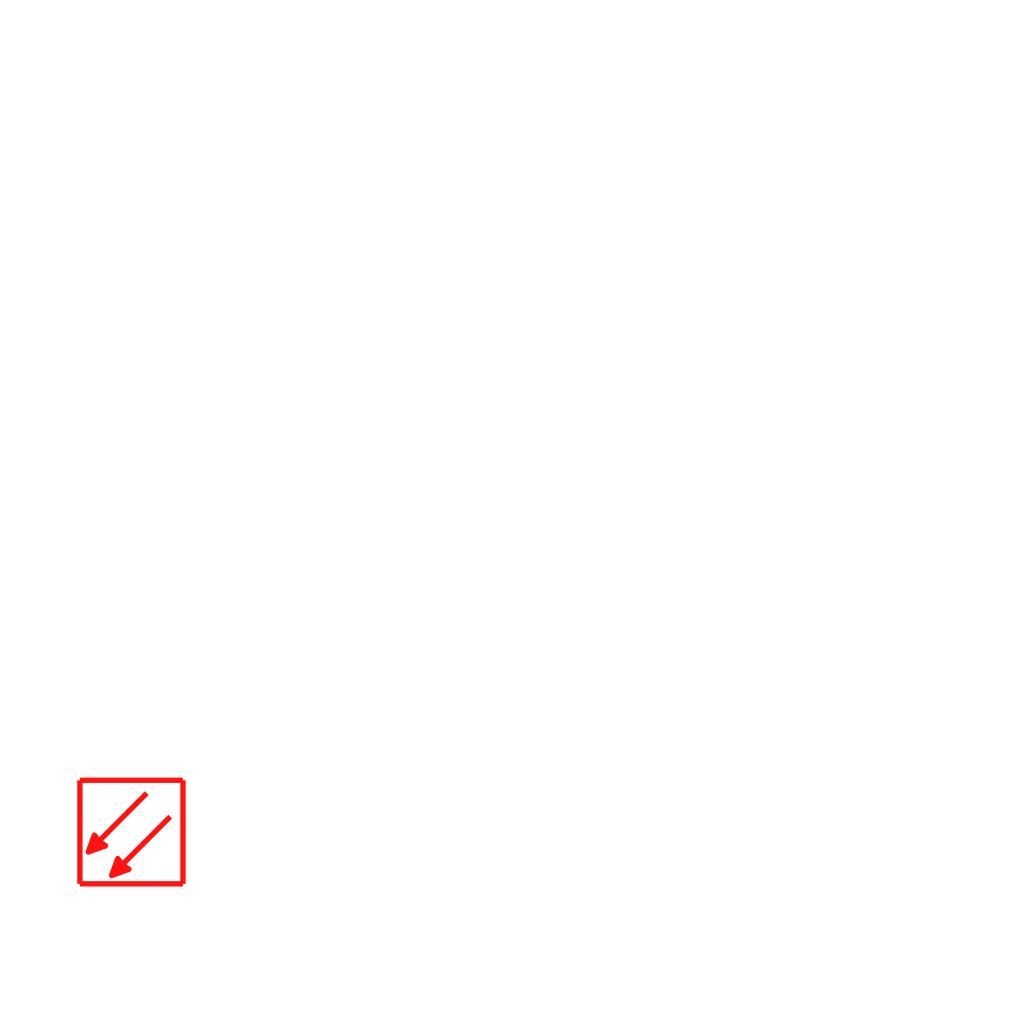RMO_Rauchmelder_optischer: (75, 776, 188, 889)
